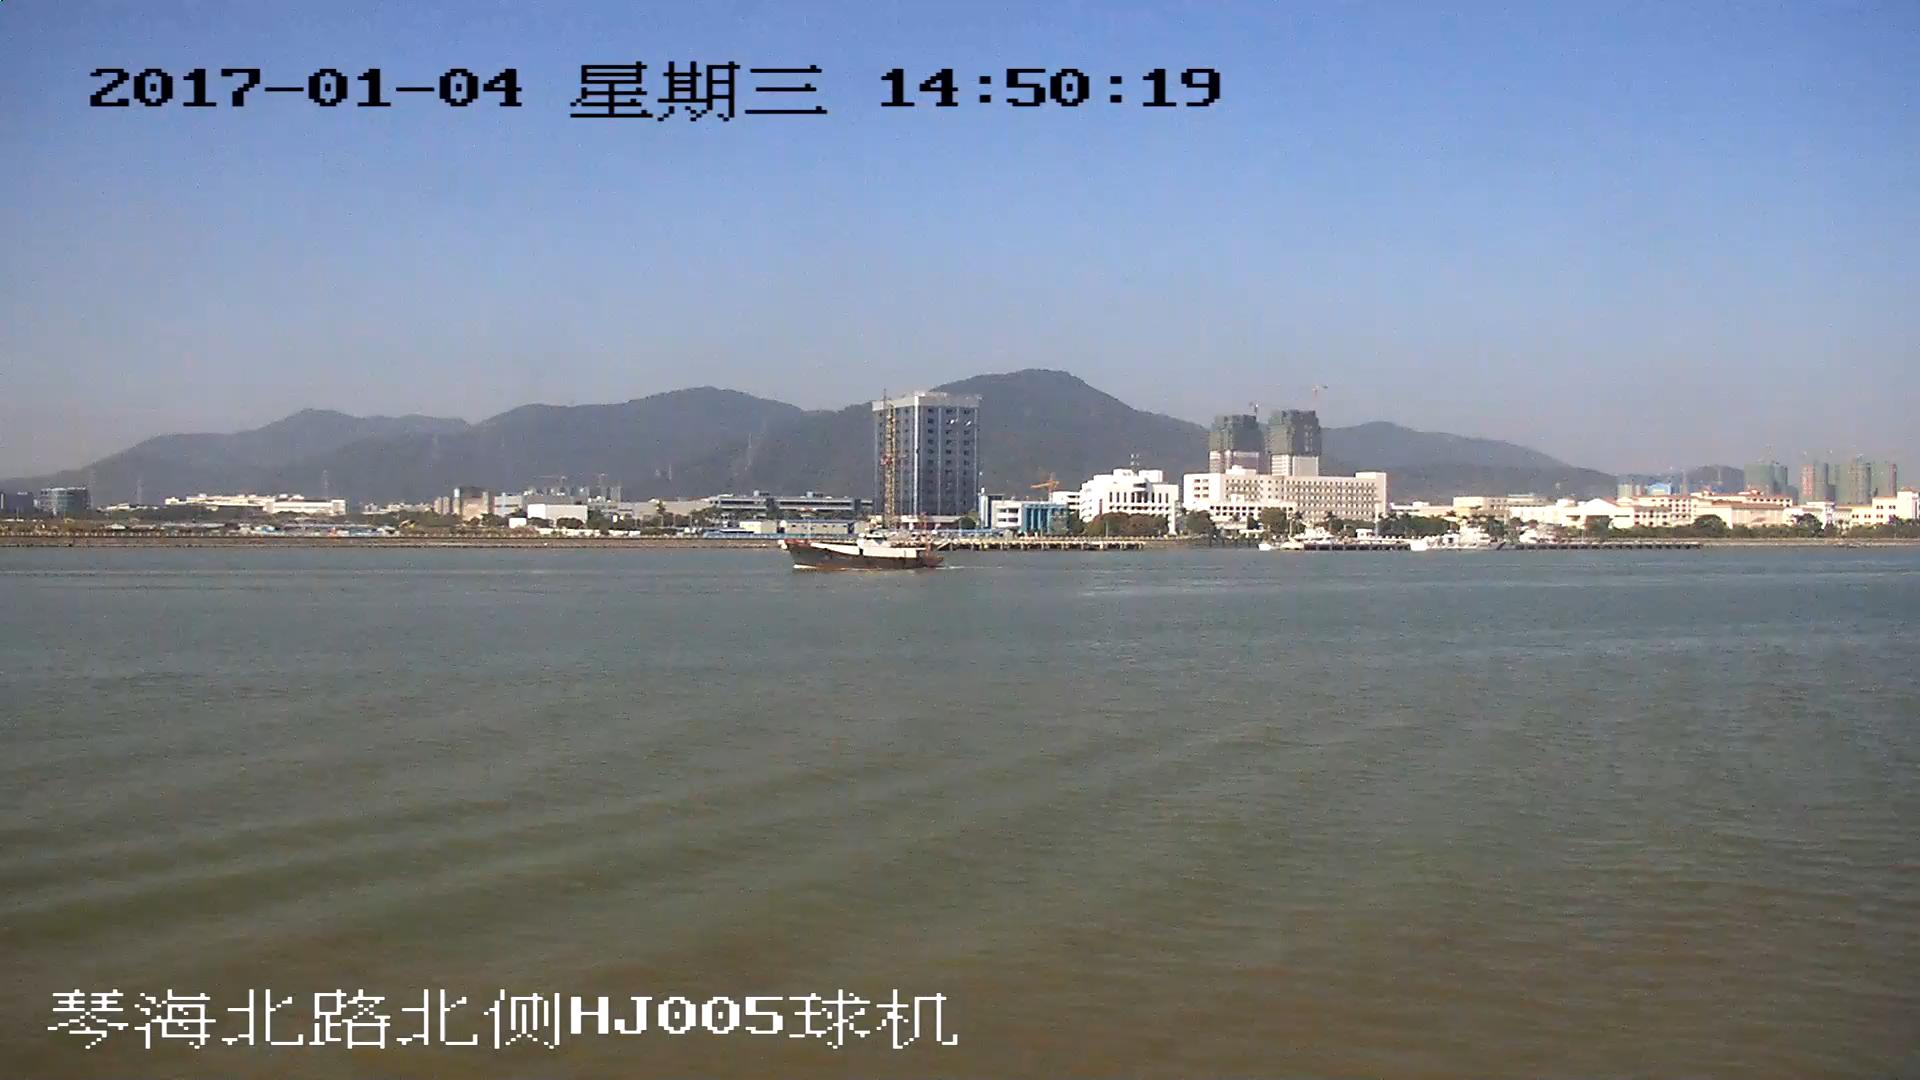fishing boat: (788, 537, 938, 571)
